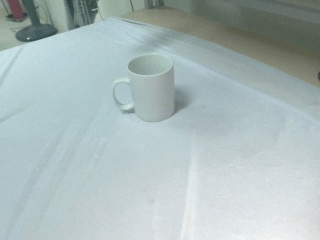cup: (113, 52, 177, 122)
